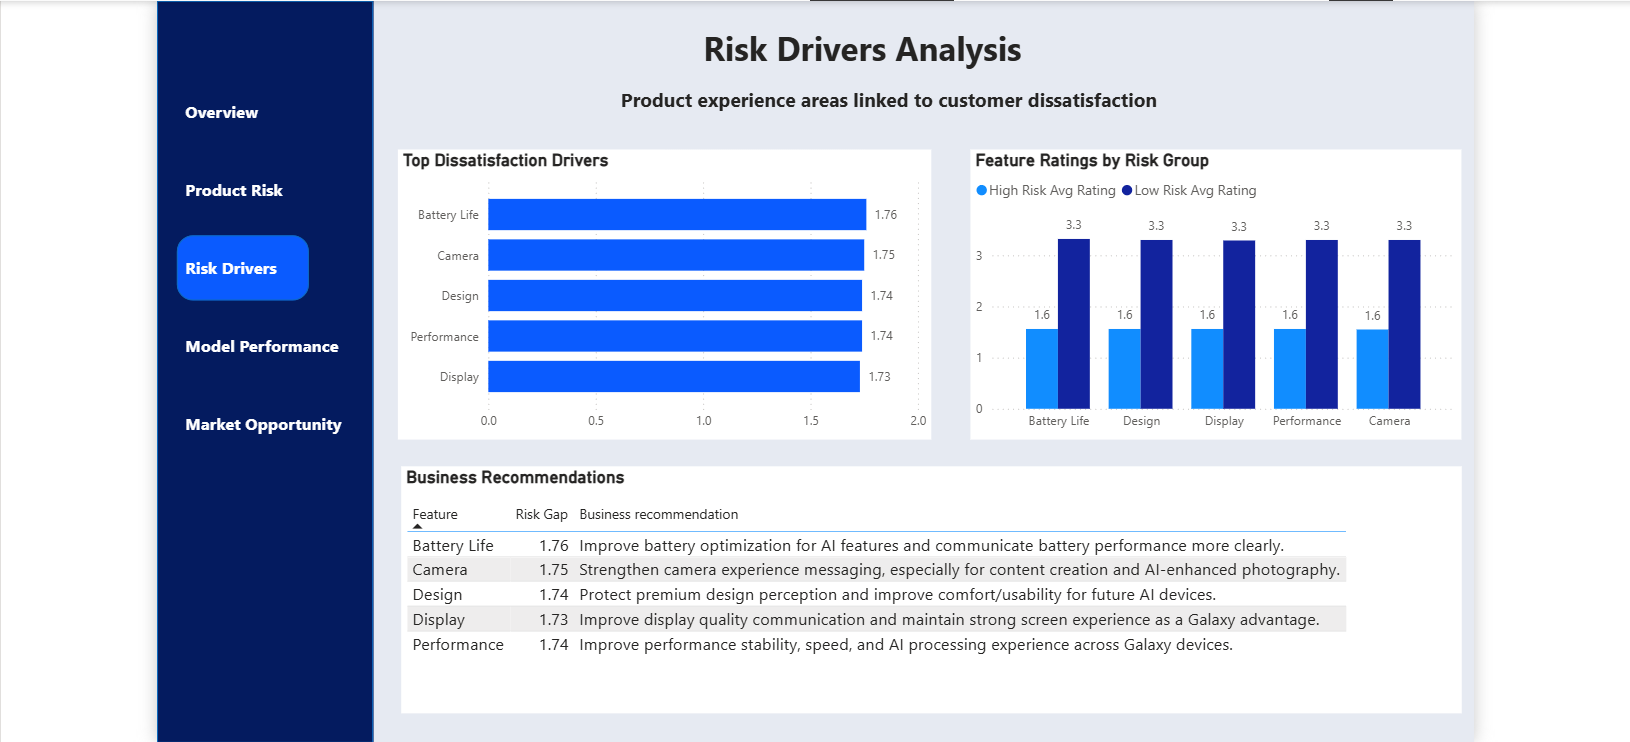

This screenshot's page, from the dashboard's own definition file:
{"tool":"powerbi","page":{"name":"Risk Drivers","canvas":[1280,720],"ordinal":2},"visuals":[{"type":"shape","box":[0,0,210,721.7],"z":0},{"type":"clusteredBarChart","title":"Top Dissatisfaction Drivers","fields":{"Category":["samsung_feature_gap_summary.Clean Feature Name"],"Y":["Sum(samsung_feature_gap_summary.risk_gap)"]},"box":[233.3,145,518.3,281.7],"z":1000},{"type":"clusteredColumnChart","title":"Feature Ratings by Risk Group","fields":{"Category":["samsung_feature_gap_summary.Clean Feature Name"],"Y":["Sum(samsung_feature_gap_summary.High Dissatisfaction Risk)","Sum(samsung_feature_gap_summary.Low Dissatisfaction Risk)"]},"box":[790,145,476.7,281.7],"z":2000},{"type":"tableEx","title":"Business Recommendations","fields":{"Values":["samsung_feature_gap_summary.Clean Feature Name","Sum(samsung_feature_gap_summary.risk_gap)","samsung_feature_gap_summary.business_recommendation"]},"box":[236.7,451.7,1030,240],"z":3000},{"type":"shape","box":[20,228.3,128.3,63.3],"z":4000},{"type":"textbox","box":[21.7,73.3,163.3,413.3],"z":5000},{"type":"textbox","box":[525,20,528.3,53.3],"z":6000},{"type":"textbox","box":[445,78.3,583.3,66.7],"z":7000}]}

Visuals, with their boxes on the page's 1280x720 design canvas (x1, y1, x2, y2). These are canvas units, not pixel positions in the 1630x742 screenshot, which may show the page scaled, cropped or inside an application window:
shape: Rect(0, 0, 210, 722)
"Top Dissatisfaction Drivers" clusteredBarChart: Rect(233, 145, 752, 427)
"Feature Ratings by Risk Group" clusteredColumnChart: Rect(790, 145, 1267, 427)
"Business Recommendations" tableEx: Rect(237, 452, 1267, 692)
shape: Rect(20, 228, 148, 292)
textbox: Rect(22, 73, 185, 487)
textbox: Rect(525, 20, 1053, 73)
textbox: Rect(445, 78, 1028, 145)
